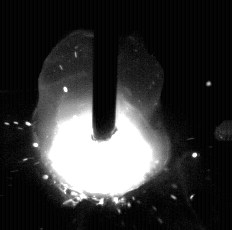arame: (93, 0, 117, 143)
poca: (33, 0, 170, 230)
